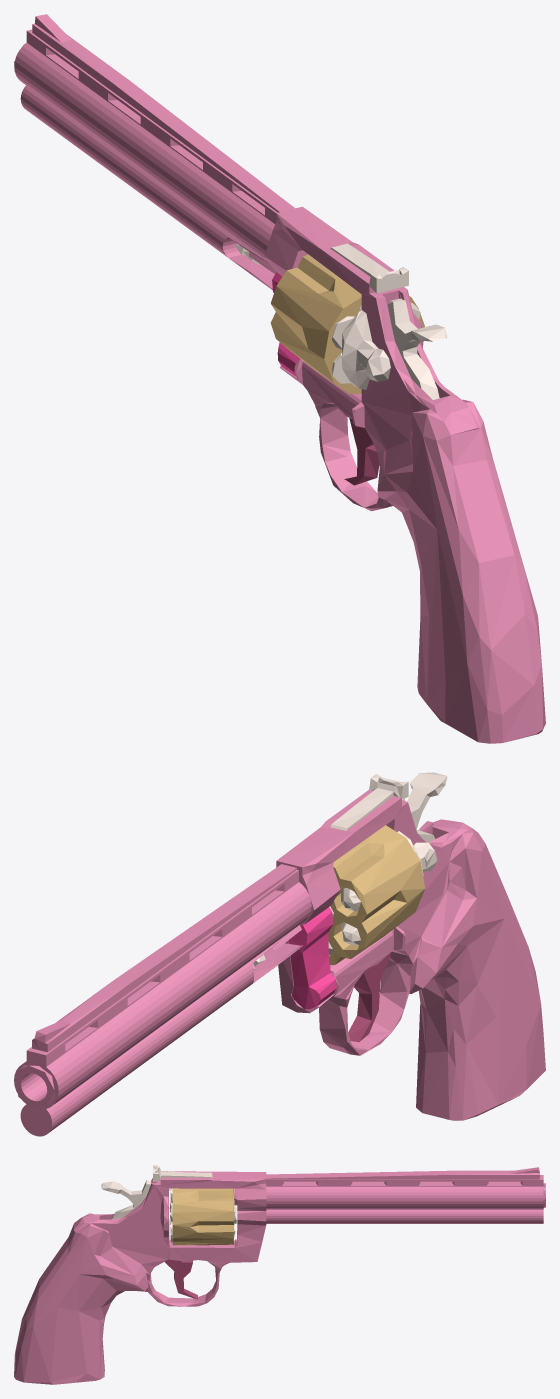
The model's file is Revolver_Python.obj.
3 views of the same model, one above another, from view 1: azimuth 30°, elevation 25°; view 2: azimuth 150°, elevation 25°; view 3: azimuth 270°, elevation 25° (orthographic). The views are drawn at different scales.
Parts seen in each view (by area): view 1: Body, Panel, Cylinder, Grip; view 2: Body, Cylinder, Panel, Accent, Grip; view 3: Body, Cylinder, Panel, Grip.
Boxes of the visible parts, x1,y1,x2,y2 form: Body: (14,14,545,743); Panel: (235,243,447,399); Cylinder: (270,254,424,394); Grip: (344,418,379,485); Body: (14,790,545,1136); Cylinder: (328,825,425,964); Panel: (253,772,447,969); Accent: (288,907,336,1009); Grip: (348,952,390,1042); Body: (14,1167,545,1384); Cylinder: (169,1188,234,1245); Panel: (101,1165,236,1242); Grip: (164,1259,197,1299).
Bounding box in the file's own units: 0.2038 × 0.7252 × 1.7.
